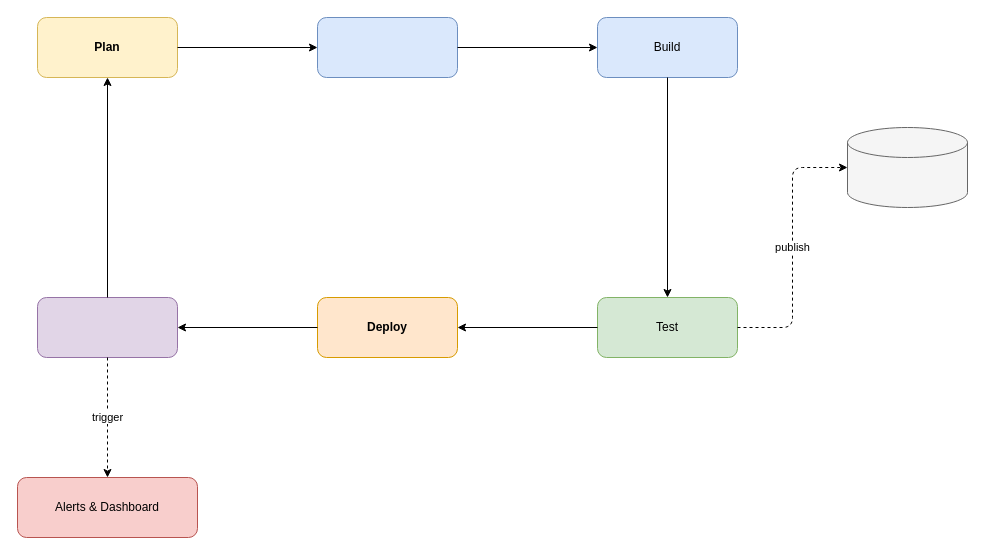
This 985x555 diagram has some shape labels left out. Each missing label, with the box of its shape:
Artifacts: (846, 126, 968, 208)
Code: (316, 16, 458, 78)
Monitor: (36, 296, 178, 358)
